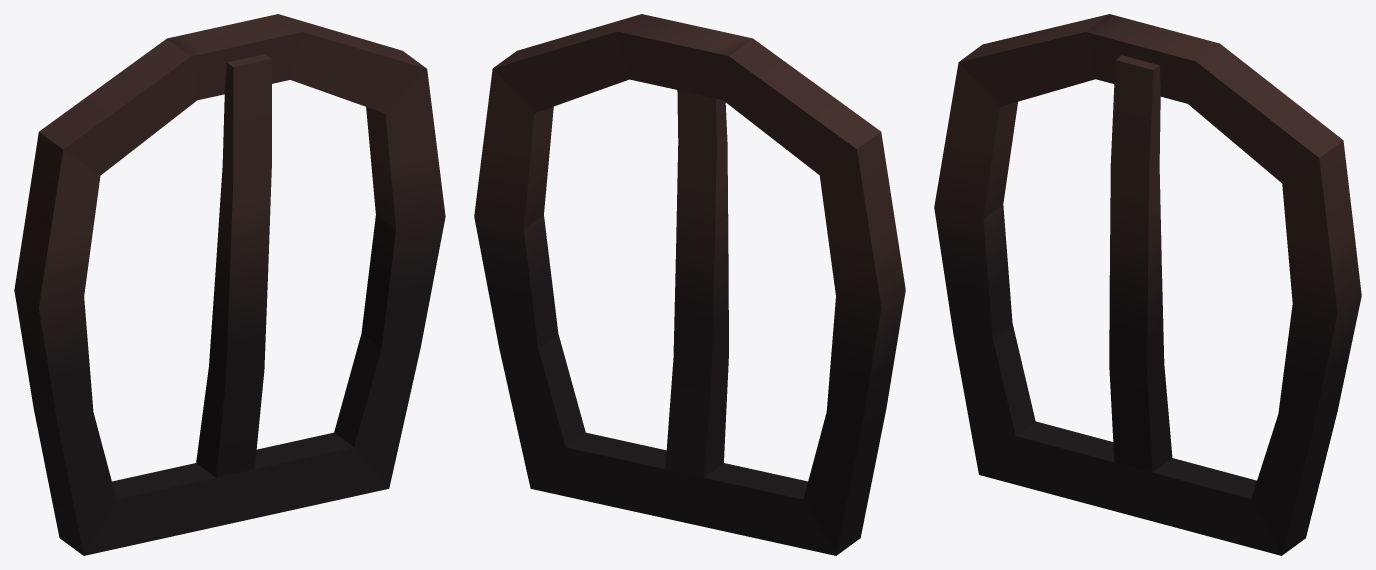
File: Belt02.fbx
3 renders of one model, left to right at view 1: azimuth 30°, elevation 25°; view 2: azimuth 150°, elevation 25°; view 3: azimuth 330°, elevation 25°, orthographic.
Visible parts, largest first — view 1: Belt02; view 2: Belt02; view 3: Belt02.
Part boxes in pixels (box(x1,y1,x2,y2)): Belt02: box(14, 14, 445, 555); Belt02: box(474, 14, 905, 555); Belt02: box(934, 14, 1361, 555).
Bounding box in the file's own units: 20.37 × 22.99 × 2.84.
Materials: 1 (1 with a texture image).
